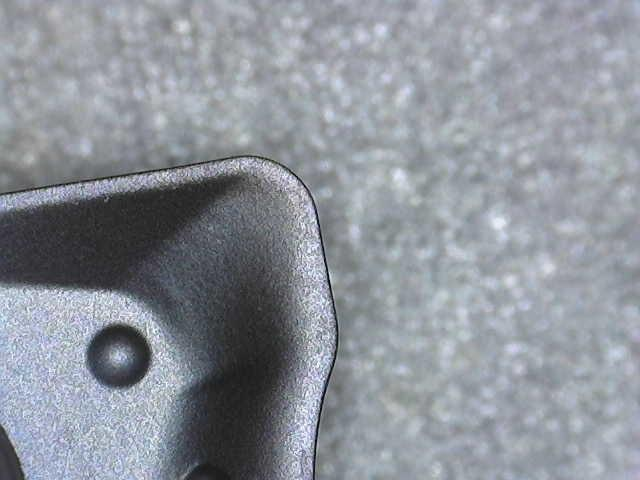normal: (1, 156, 336, 480)
